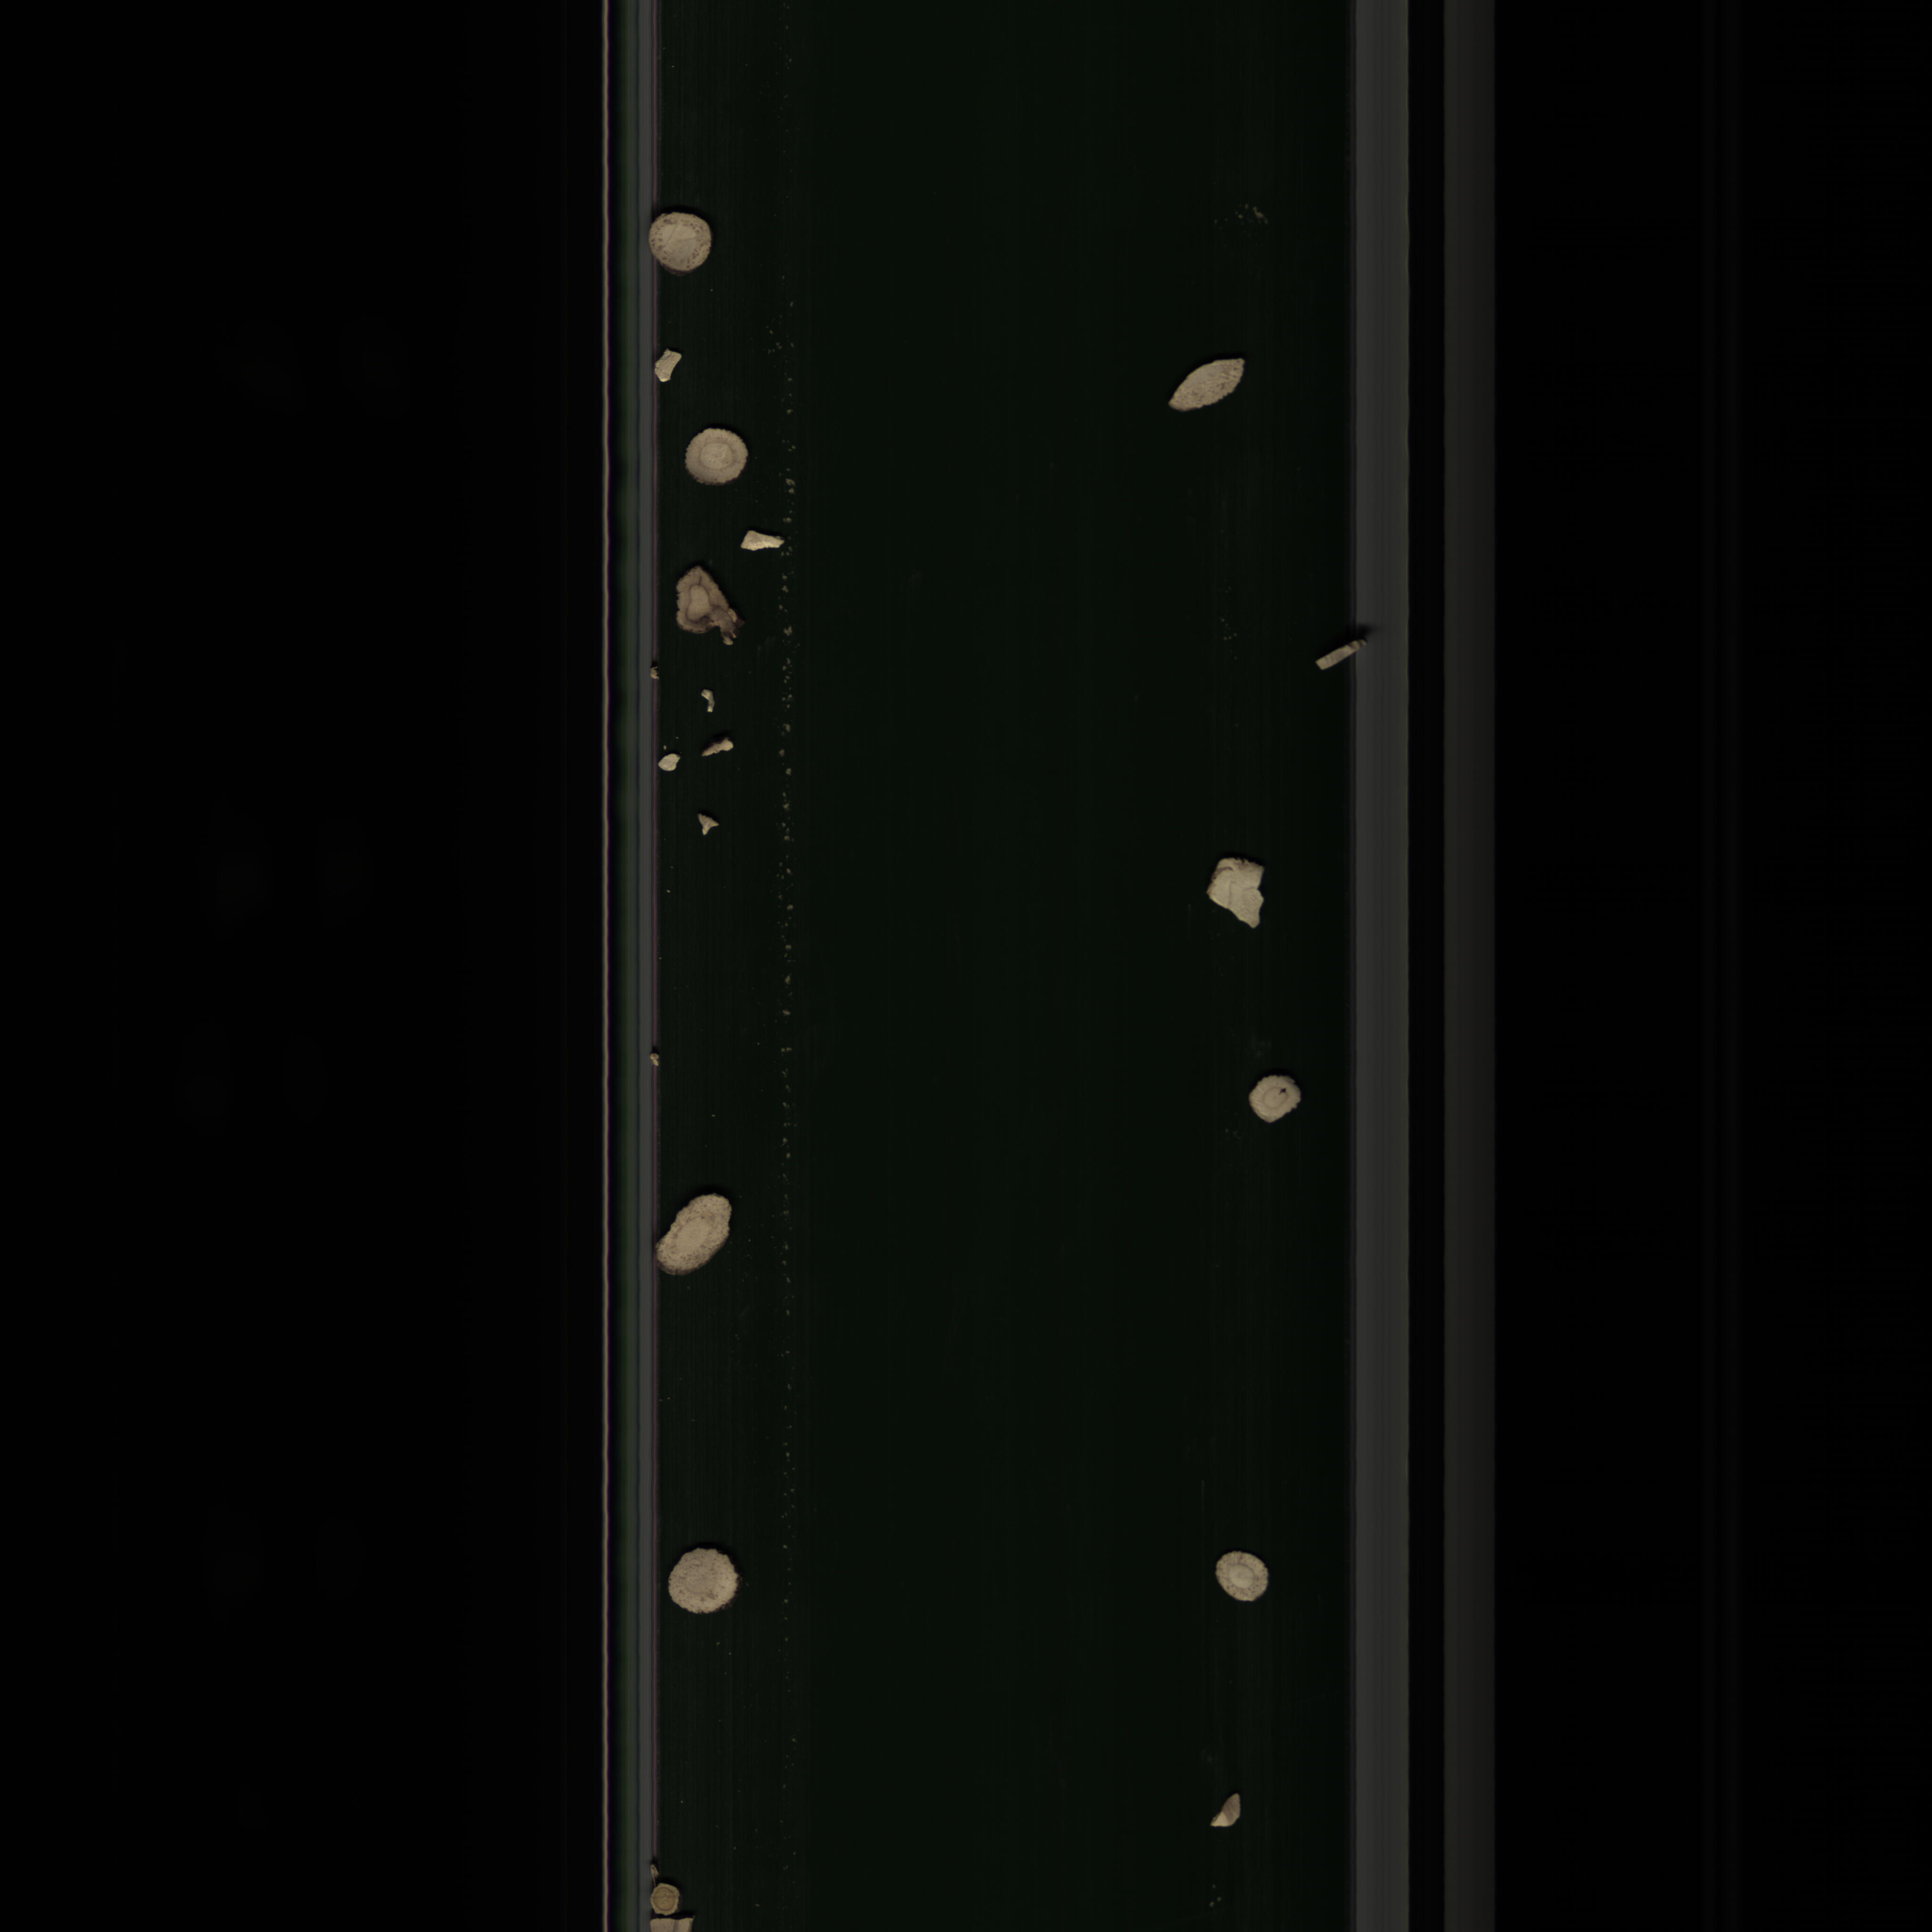debris: (1196, 844, 1269, 941), (1154, 350, 1249, 423), (1315, 625, 1371, 685), (649, 341, 694, 396), (1198, 1787, 1246, 1835), (729, 522, 784, 561), (704, 734, 741, 764), (651, 755, 686, 777), (694, 810, 724, 832)
hole: (1247, 1063, 1307, 1132)
moldy: (667, 563, 741, 651)
